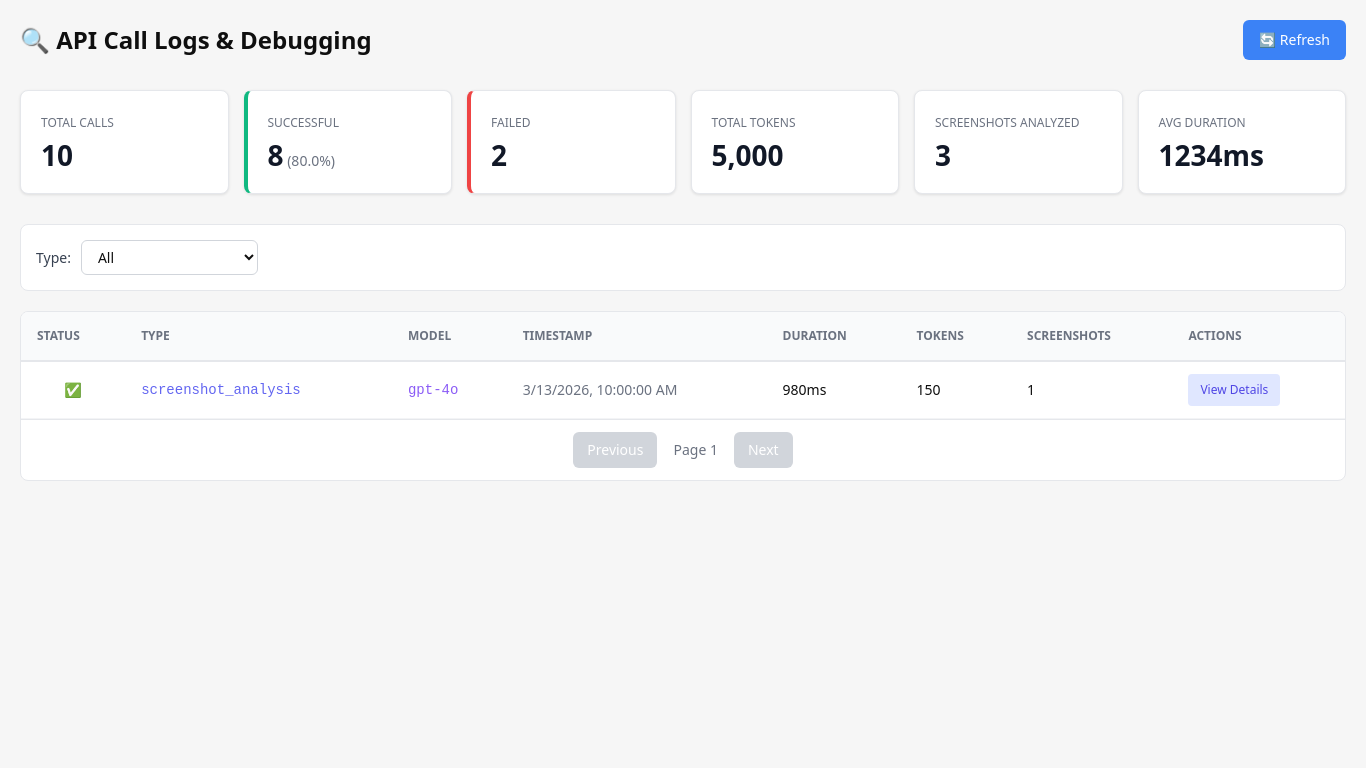
Test case: ApiLogsView › clicking close (✕) dismisses detail modal
Click the button "View Details" at point(1234, 390), box [1188, 374, 1280, 406]
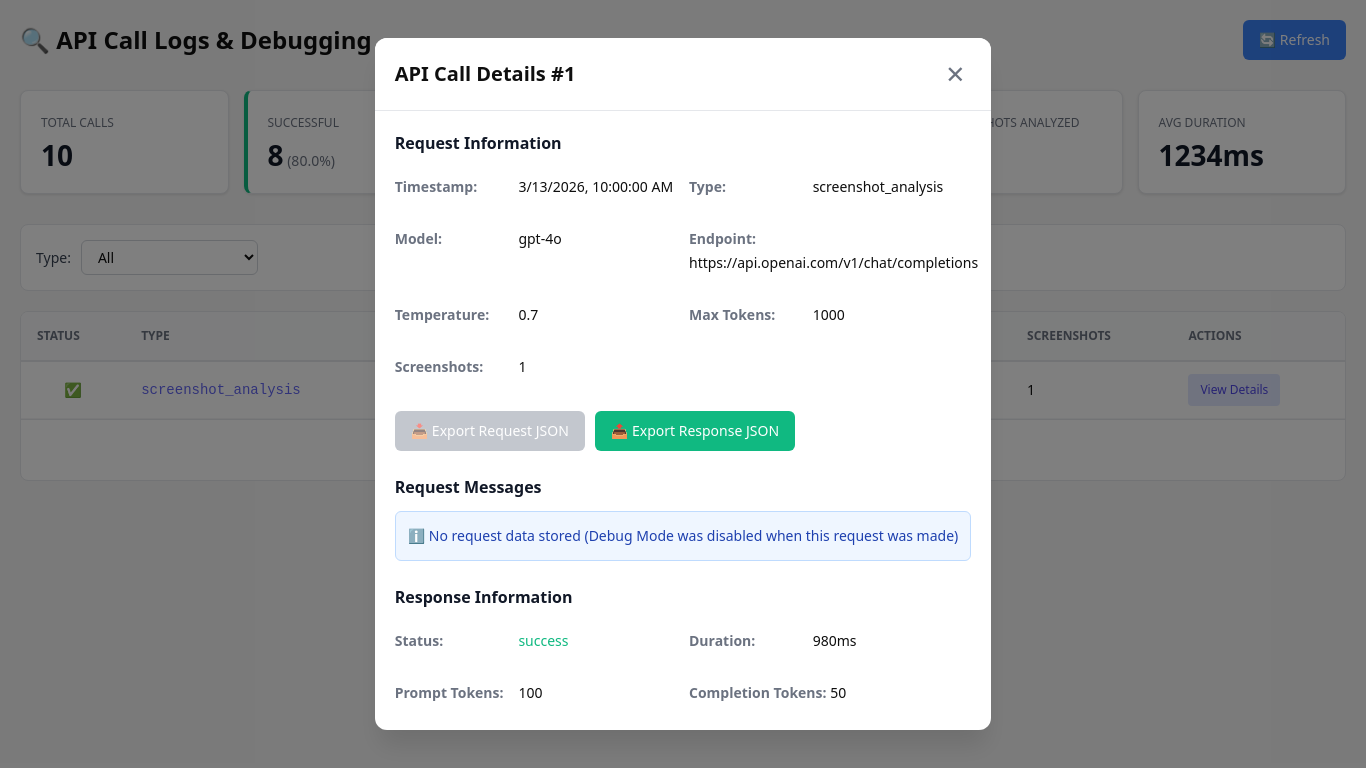
Now the heading "API Call Details #1" is shown, box [395, 62, 575, 86]
Note: The close button inside the modal (not the lightbox one)
Click the button "✕" at point(955, 74), box [939, 58, 971, 90]
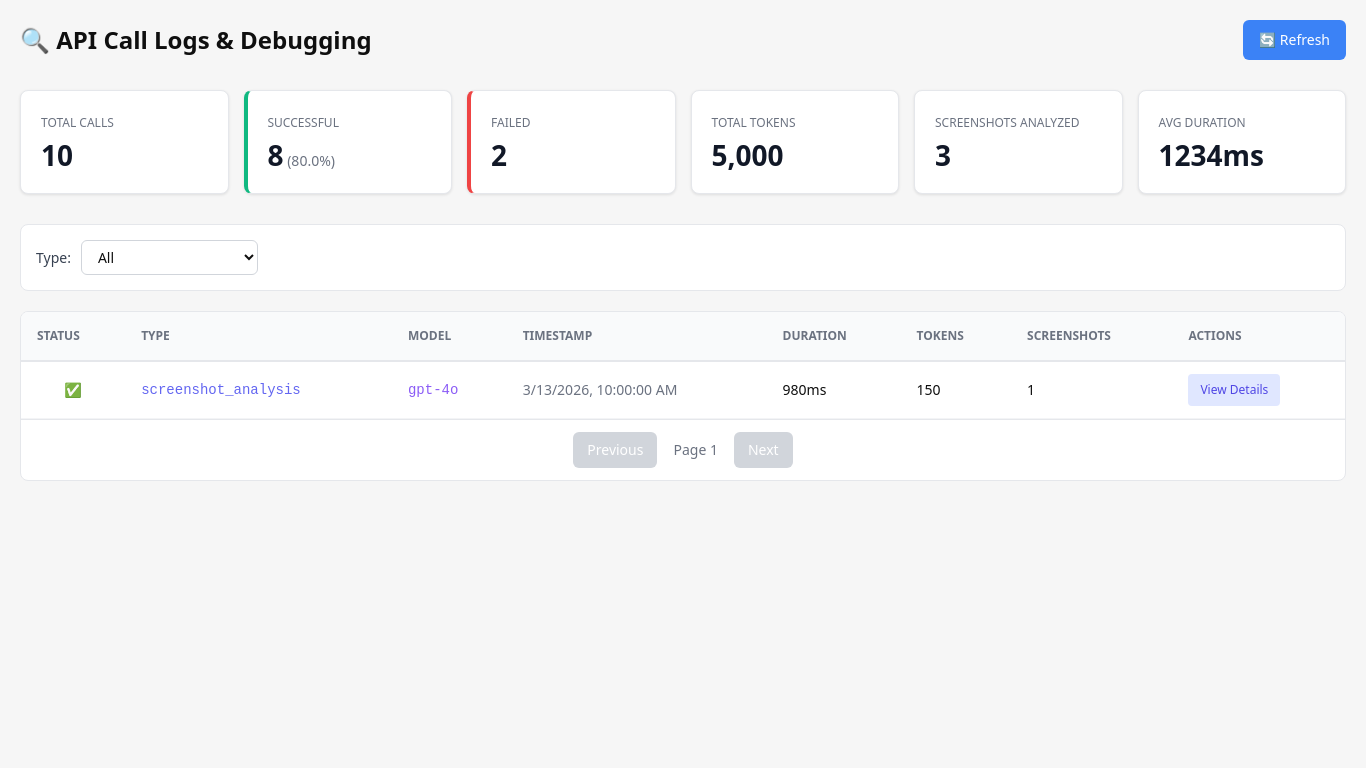
Now the heading "API Call Details" is gone
